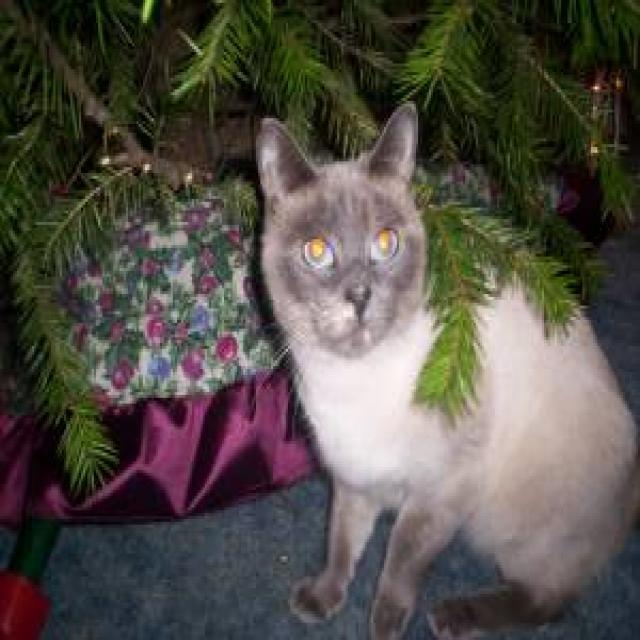Siamese: (256, 97, 432, 362)
